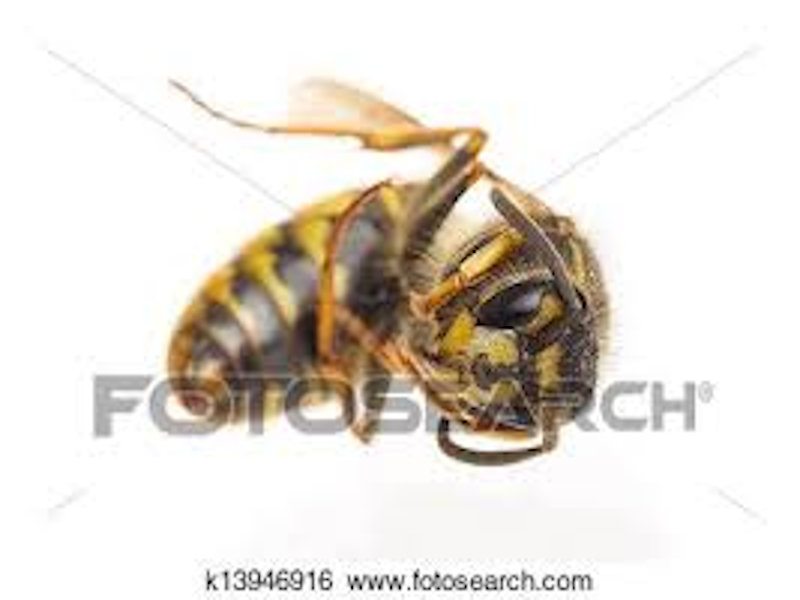chax: (153, 55, 616, 481)
